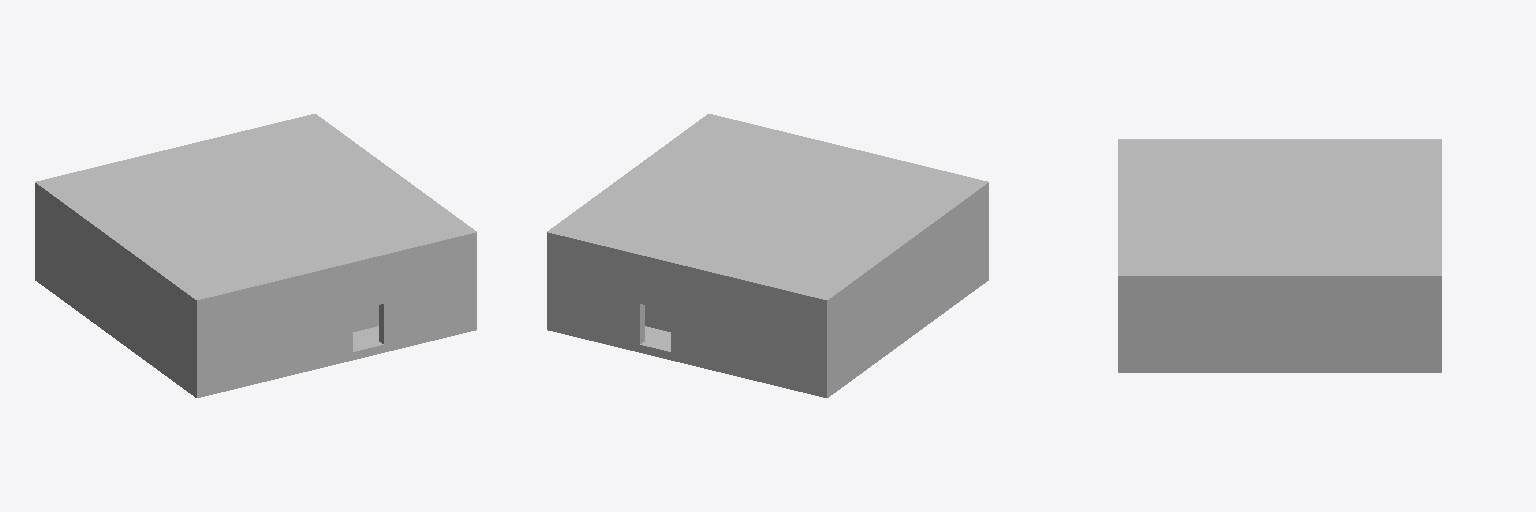
The model's file is server_bang.obj.
The picture shows the model from 3 angles: view 1: azimuth 30°, elevation 25°; view 2: azimuth 150°, elevation 25°; view 3: azimuth 270°, elevation 25°; orthographic projection.
Visible parts, largest first — view 1: Cube.014, Cube.007, Cube.006, Cube.008, Cube, Cube.001, Cube.009; view 2: Cube.014, Cube.003, Cube.006, Cube.002, Cube, Cube.004, Cube.009; view 3: Cube.014, Cube.010, Cube, Cube.002, Cube.008.
Part boxes in pixels (bbox=[...]): Cube.014: bbox=[35, 114, 476, 308]; Cube.007: bbox=[192, 271, 352, 389]; Cube.006: bbox=[39, 194, 191, 386]; Cube.008: bbox=[379, 240, 476, 344]; Cube: bbox=[35, 272, 476, 397]; Cube.001: bbox=[353, 263, 383, 310]; Cube.009: bbox=[353, 305, 378, 331]; Cube.014: bbox=[547, 114, 988, 308]; Cube.003: bbox=[671, 271, 831, 389]; Cube.006: bbox=[832, 194, 984, 386]; Cube.002: bbox=[547, 240, 644, 344]; Cube: bbox=[547, 272, 988, 397]; Cube.004: bbox=[640, 263, 670, 310]; Cube.009: bbox=[645, 305, 670, 331]; Cube.014: bbox=[1118, 139, 1441, 283]; Cube.010: bbox=[1127, 284, 1432, 364]; Cube: bbox=[1118, 365, 1441, 372]; Cube.002: bbox=[1433, 284, 1441, 364]; Cube.008: bbox=[1118, 284, 1126, 364].
Size of the model in its own units: 36 by 12 by 36.